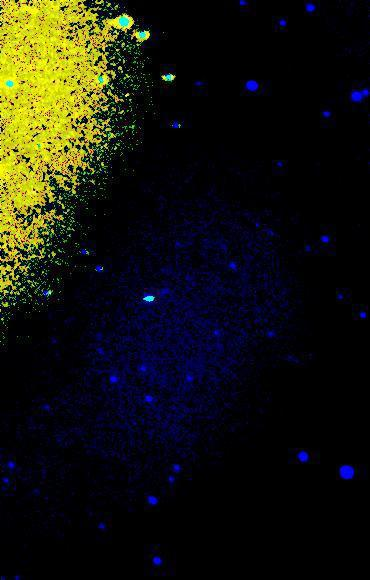star: (108, 86, 138, 116)
